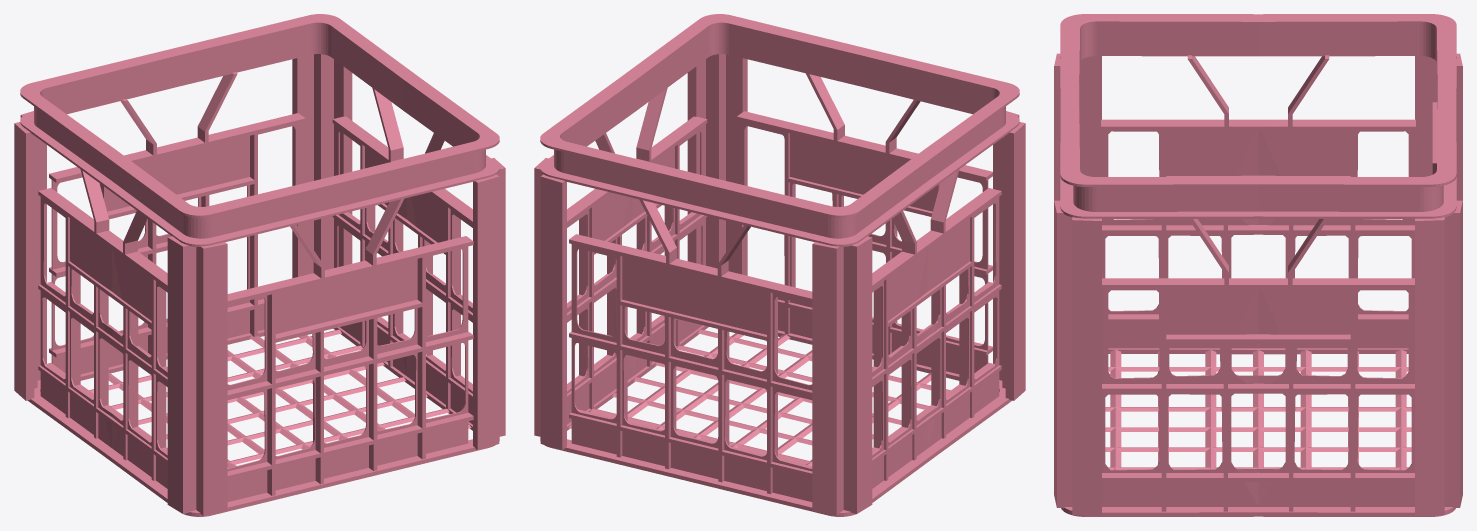
The model's file is Crate.fbx.
3 views of the same model, side by side, from view 1: azimuth 30°, elevation 25°; view 2: azimuth 150°, elevation 25°; view 3: azimuth 270°, elevation 25° (orthographic). The views are drawn at different scales.
Parts seen in each view (by area): view 1: milk_crate; view 2: milk_crate; view 3: milk_crate.
Part boxes in pixels (<box>): milk_crate: <box>14,14,505,516</box>; milk_crate: <box>534,14,1025,516</box>; milk_crate: <box>1054,14,1462,516</box>.
Bounding box in the file's own units: 67.96 × 59.96 × 66.81.
